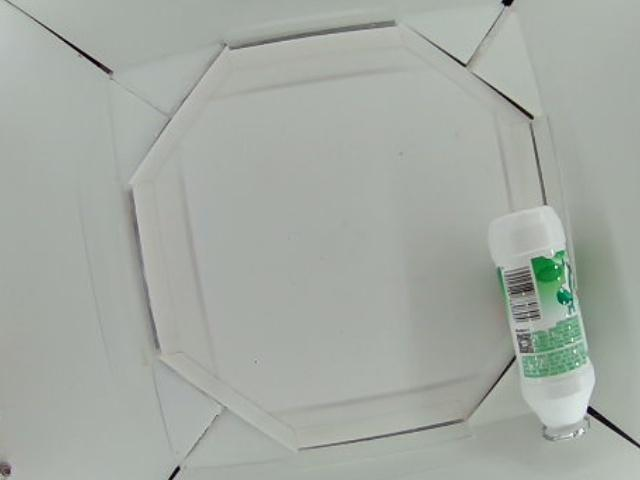Bottle: (488, 205, 600, 442)
